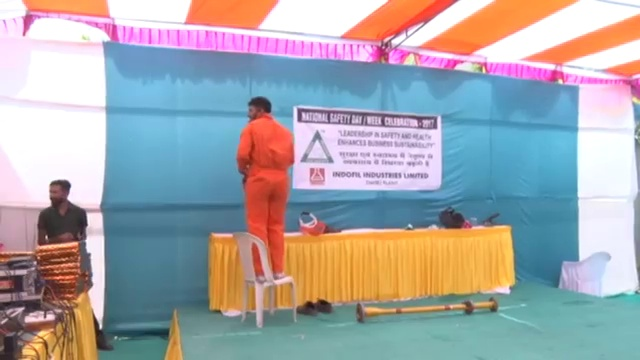helmet_off: (246, 96, 273, 125), (46, 180, 72, 208)
person: (237, 95, 295, 280), (36, 182, 91, 243)
